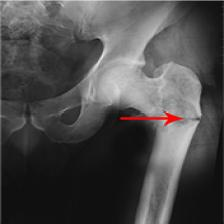pathological-fracture: (0, 0, 218, 224)
